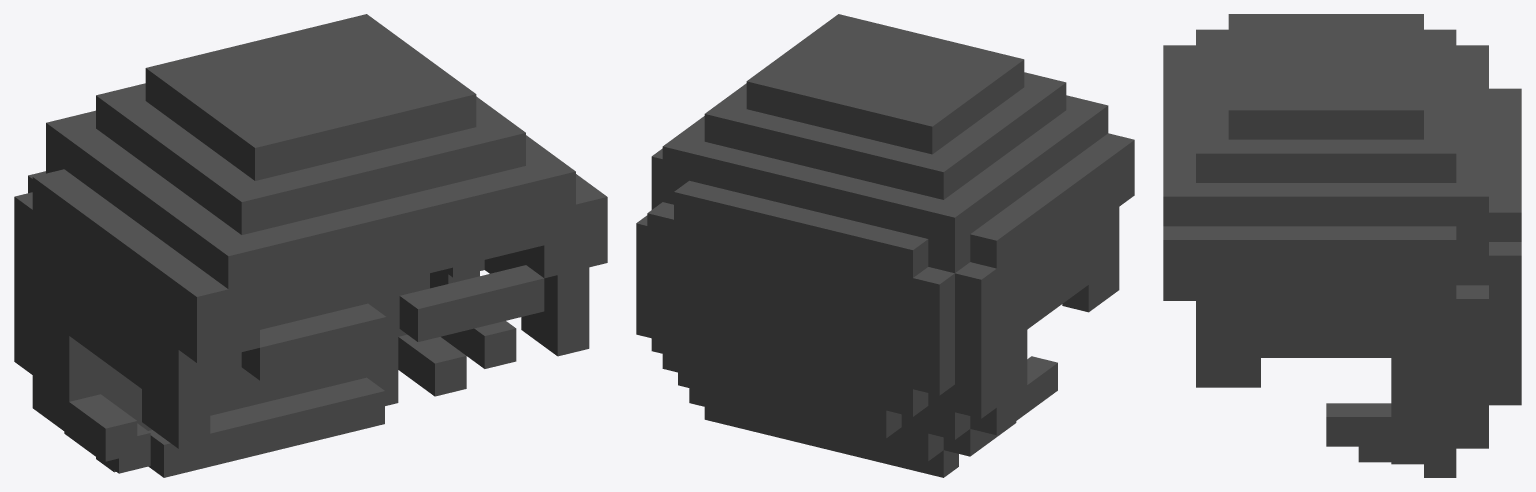
File: Union_4.fbx
3 views of the same model, side by side, from view 1: azimuth 30°, elevation 25°; view 2: azimuth 150°, elevation 25°; view 3: azimuth 270°, elevation 25° (orthographic). The views are drawn at different scales.
Parts seen in each view (by area): view 1: Union_4; view 2: Union_4; view 3: Union_4.
Boxes of the visible parts, x1,y1,x2,y2 form: Union_4: (14,14,607,477); Union_4: (636,14,1134,477); Union_4: (1163,14,1521,477).
Size of the model in its own units: 13 by 12 by 11.
1 material, 1 textured.
